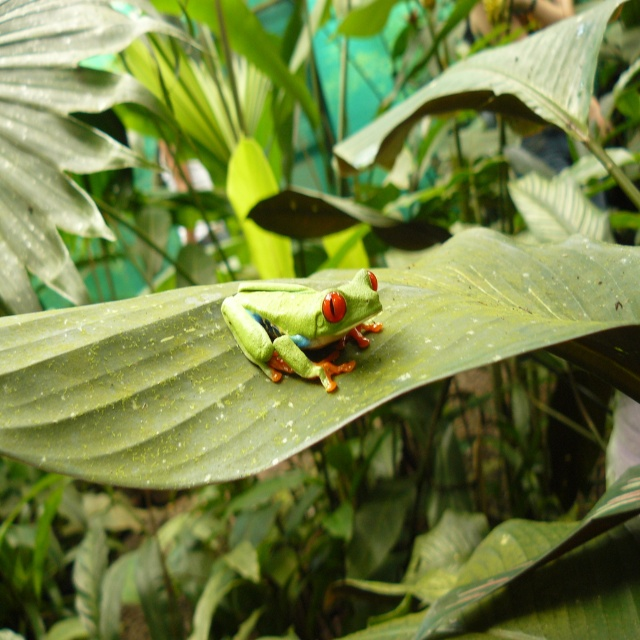Frog: (219, 267, 383, 393)
